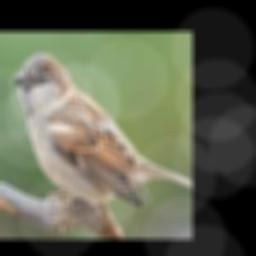Sparrow: (12, 53, 192, 210)
